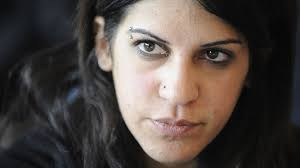middle_eastern_Female: (108, 6, 244, 162)
